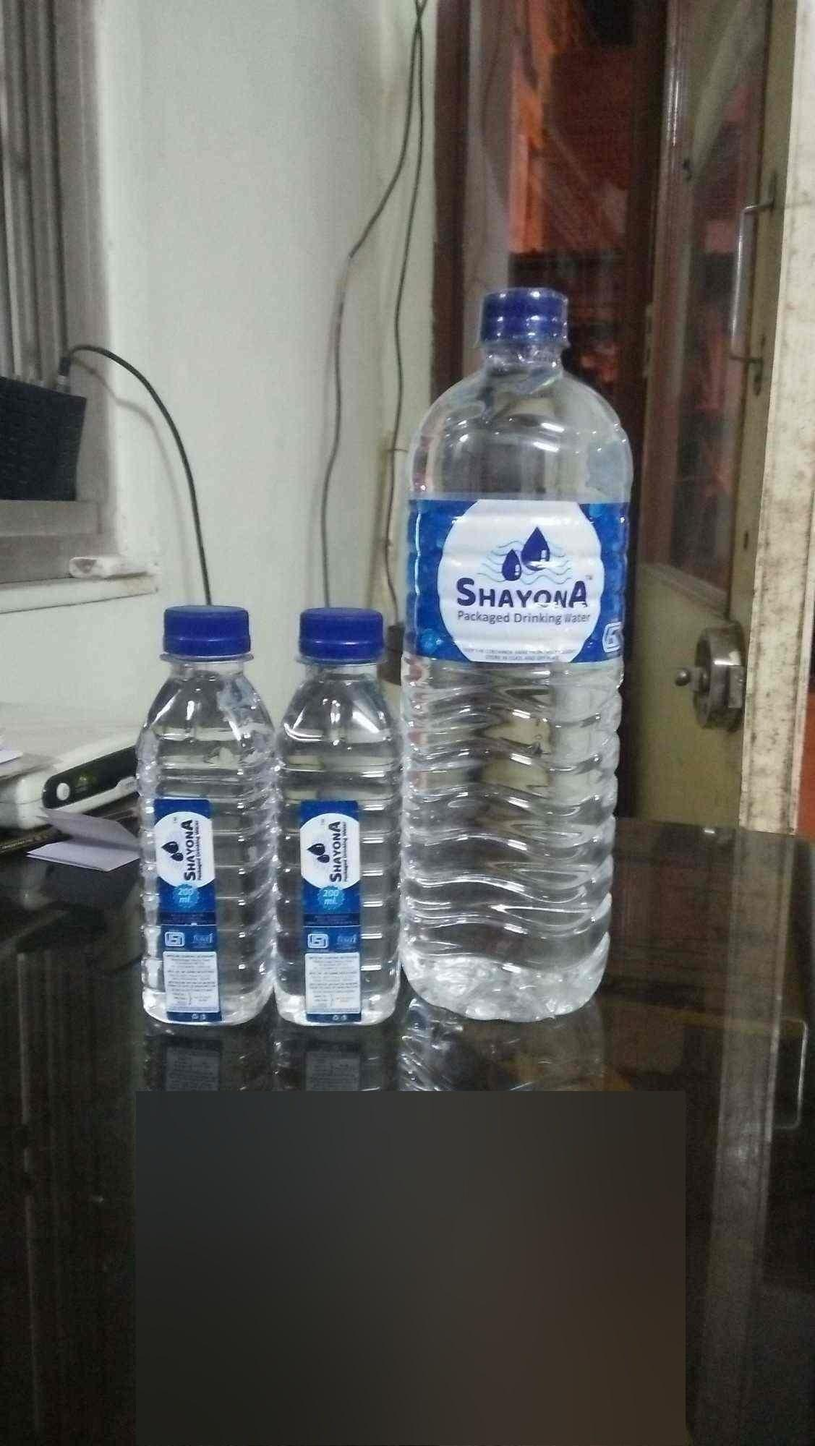bottle-plastic: (399, 283, 639, 1019), (126, 600, 286, 1041), (269, 596, 410, 1030)
